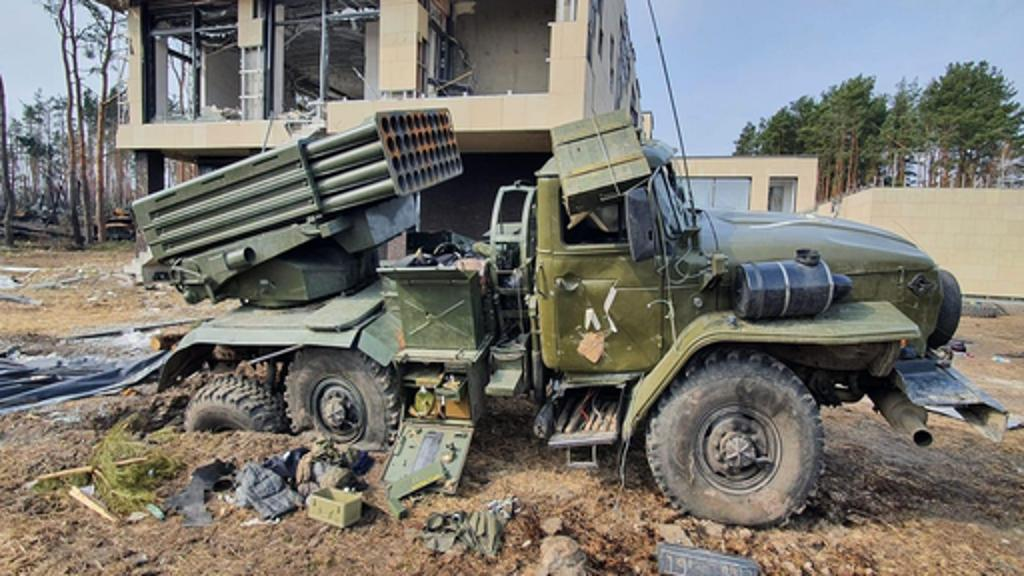MLRS: (110, 96, 998, 526)
